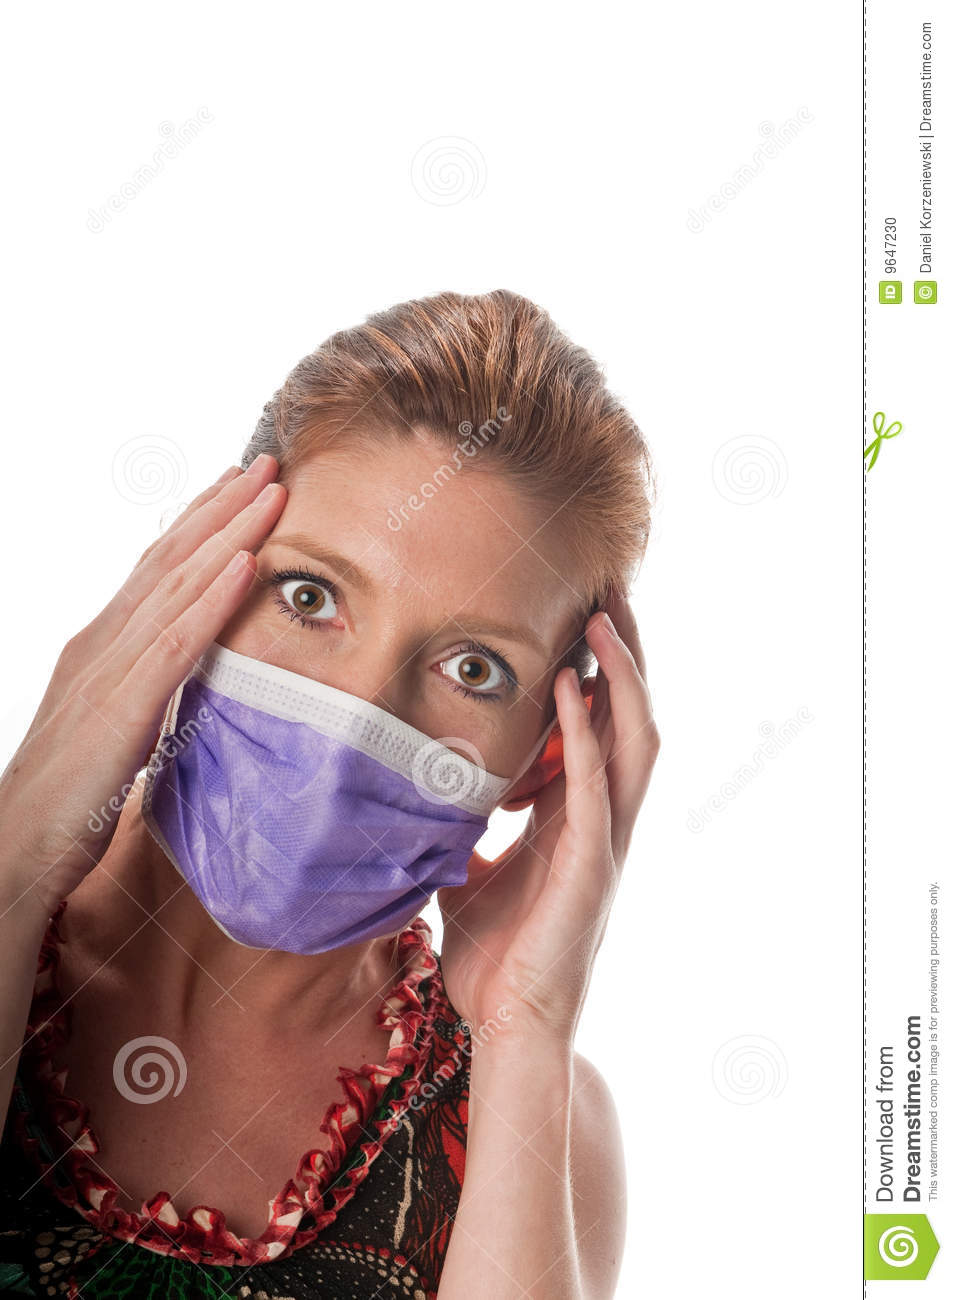mask: (154, 665, 484, 983)
